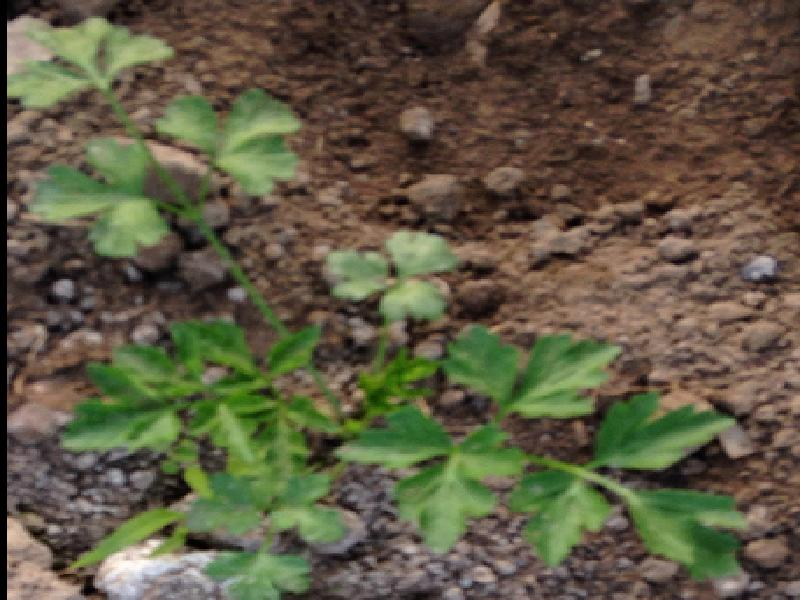radish: (0, 182, 800, 600)
